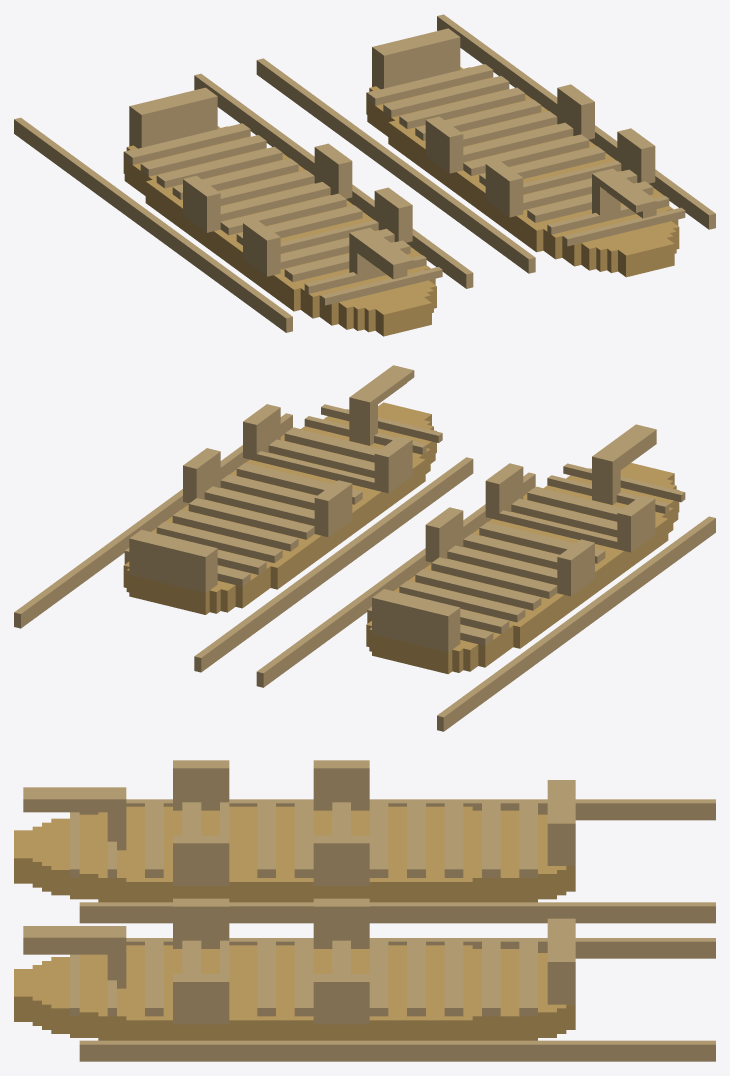
The model's file is straw_sandals.glb.
3 views of the same model, one above another, from view 1: azimuth 30°, elevation 25°; view 2: azimuth 150°, elevation 25°; view 3: azimuth 270°, elevation 25° (orthographic). The views are drawn at different scales.
Visible parts, largest first — view 1: straw_sandals:compound; view 2: straw_sandals:compound; view 3: straw_sandals:compound.
Part boxes in pixels (box(x1,y1,x2,y2)): straw_sandals:compound: box(14, 14, 715, 336); straw_sandals:compound: box(14, 365, 715, 731); straw_sandals:compound: box(14, 760, 715, 1061).
Bounding box in the file's own units: 0.248 × 0.036 × 0.3.
